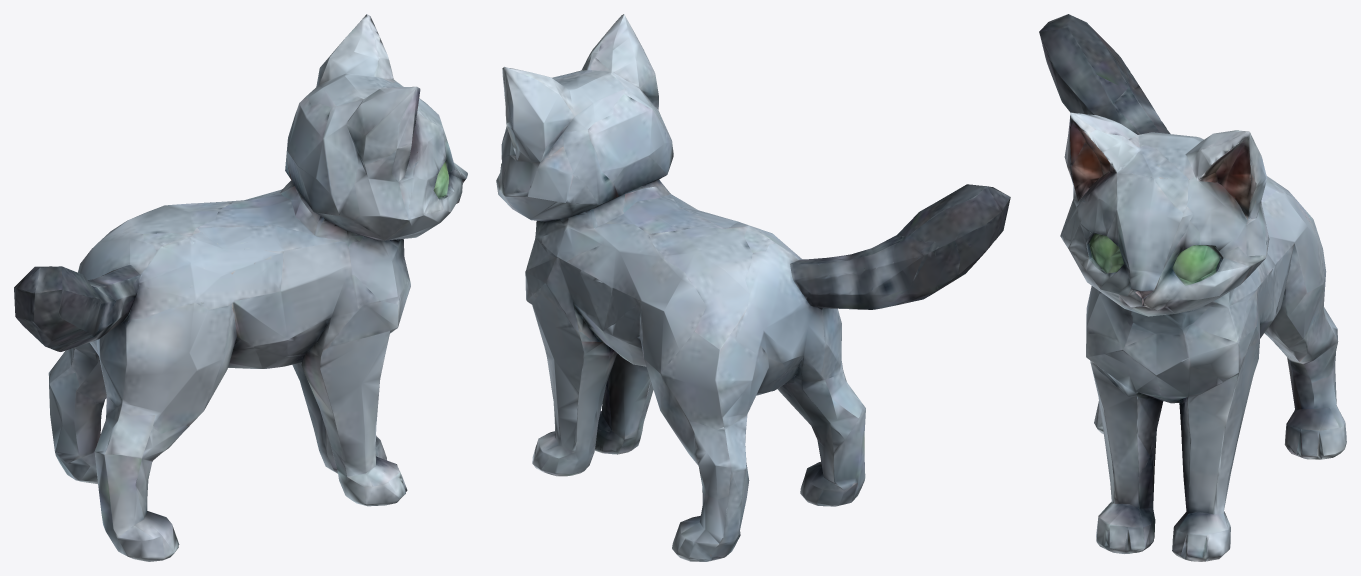
File: WHIRRPAW-lo.glb
The picture shows the model from 3 angles, left to right: view 1: azimuth 30°, elevation 25°; view 2: azimuth 150°, elevation 25°; view 3: azimuth 270°, elevation 25°; orthographic projection. The views are drawn at different scales.
Visible parts, largest first — view 1: fit; view 2: fit; view 3: fit.
Part boxes in pixels (x1,y1,x2,y2): fit: (14, 14, 467, 561); fit: (496, 14, 1010, 561); fit: (1039, 14, 1346, 561).
Size of the model in its own units: 1.18 by 0.9998 by 0.6366.
1 material, 1 textured.
